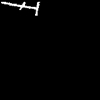double_crochet: (1, 2, 38, 14)
